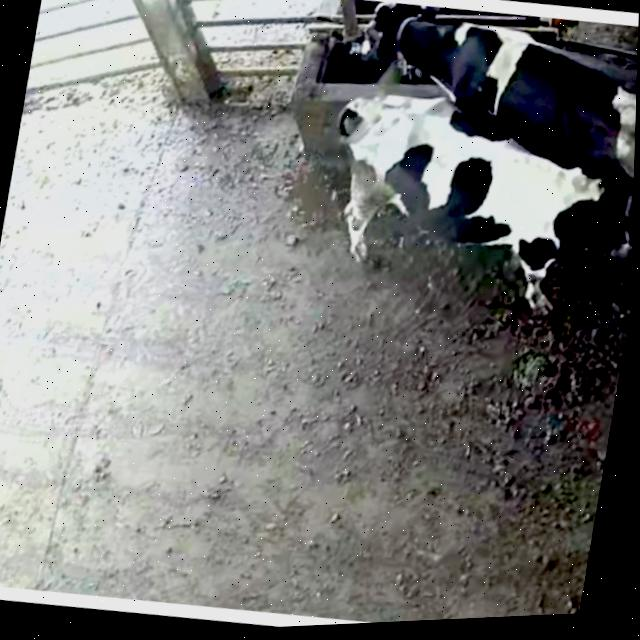drink: (306, 0, 467, 114)
